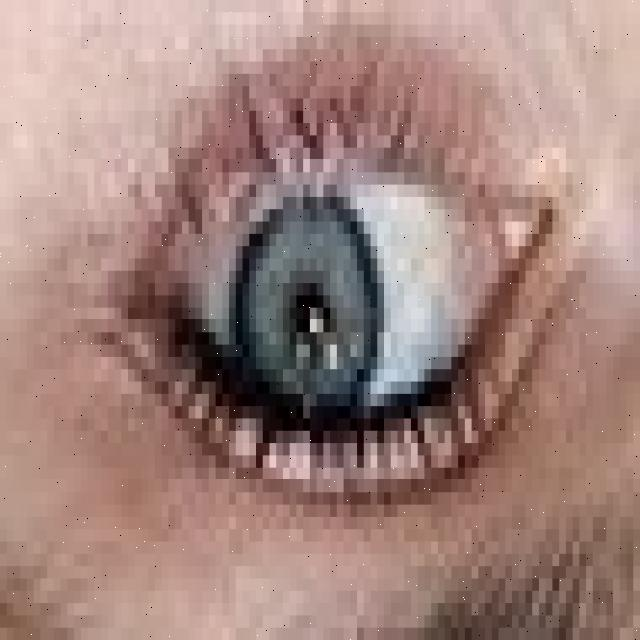Normal: (232, 181, 380, 445)
